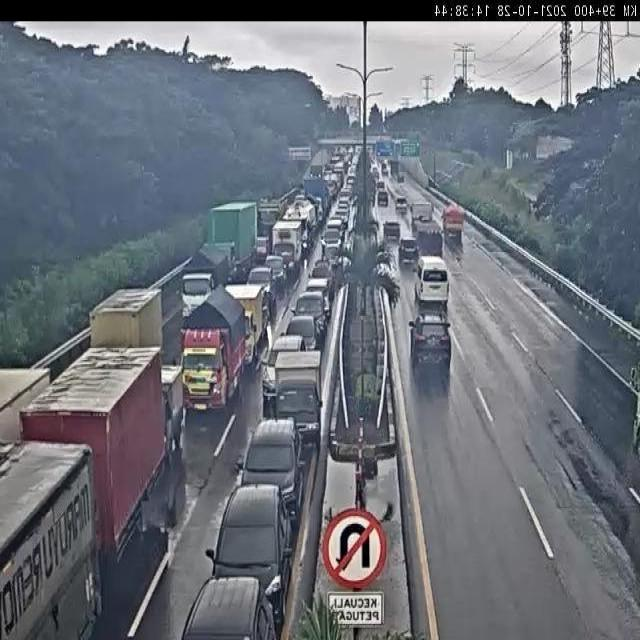Car: (205, 484, 295, 632), (237, 418, 303, 522), (408, 312, 452, 382), (293, 291, 328, 339), (284, 313, 322, 357), (246, 265, 276, 306), (306, 276, 331, 321), (270, 334, 305, 360), (264, 254, 288, 291), (321, 244, 343, 270), (399, 236, 419, 264), (320, 229, 344, 252), (311, 257, 331, 280), (255, 234, 270, 260), (326, 219, 344, 240), (384, 220, 400, 242), (334, 208, 350, 227), (294, 193, 308, 208), (395, 195, 407, 211), (377, 190, 388, 204), (376, 180, 384, 190), (397, 172, 404, 182), (382, 168, 389, 177)
Truck: (18, 348, 168, 558), (0, 440, 99, 639), (178, 286, 251, 414), (271, 347, 325, 450), (91, 288, 164, 353), (203, 202, 257, 284), (0, 364, 53, 444), (179, 246, 229, 321), (222, 283, 265, 368), (160, 359, 185, 456), (270, 217, 304, 277), (283, 199, 318, 255), (411, 200, 442, 244), (302, 178, 330, 217), (442, 204, 464, 248), (257, 201, 282, 239), (310, 164, 324, 179), (388, 159, 398, 177)
Van: (415, 255, 449, 305)
